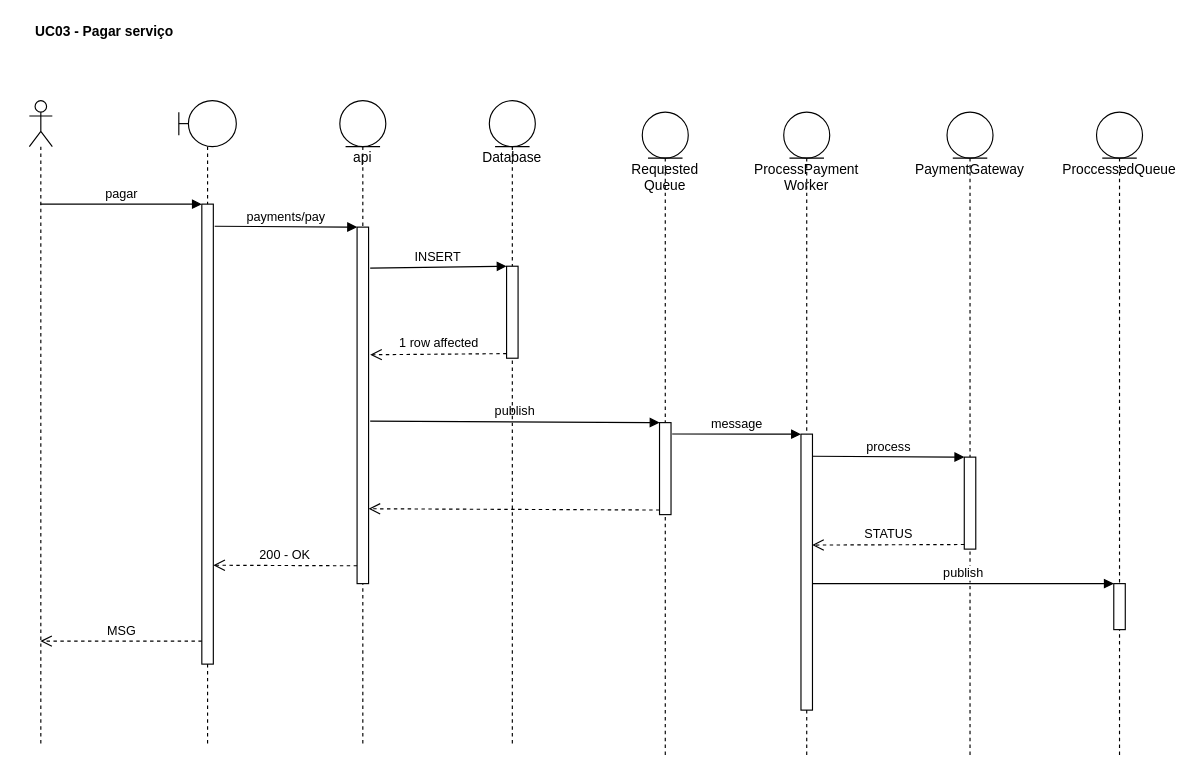
Image size: 1196x776. Some labels were removed from this diagram. The shapes that lost their labels are listed below. From the top down, each one's box as (x1, y1, x2, y2) in pixels, then its label:
(28, 99, 52, 745): Cliente
(178, 99, 236, 745): App
